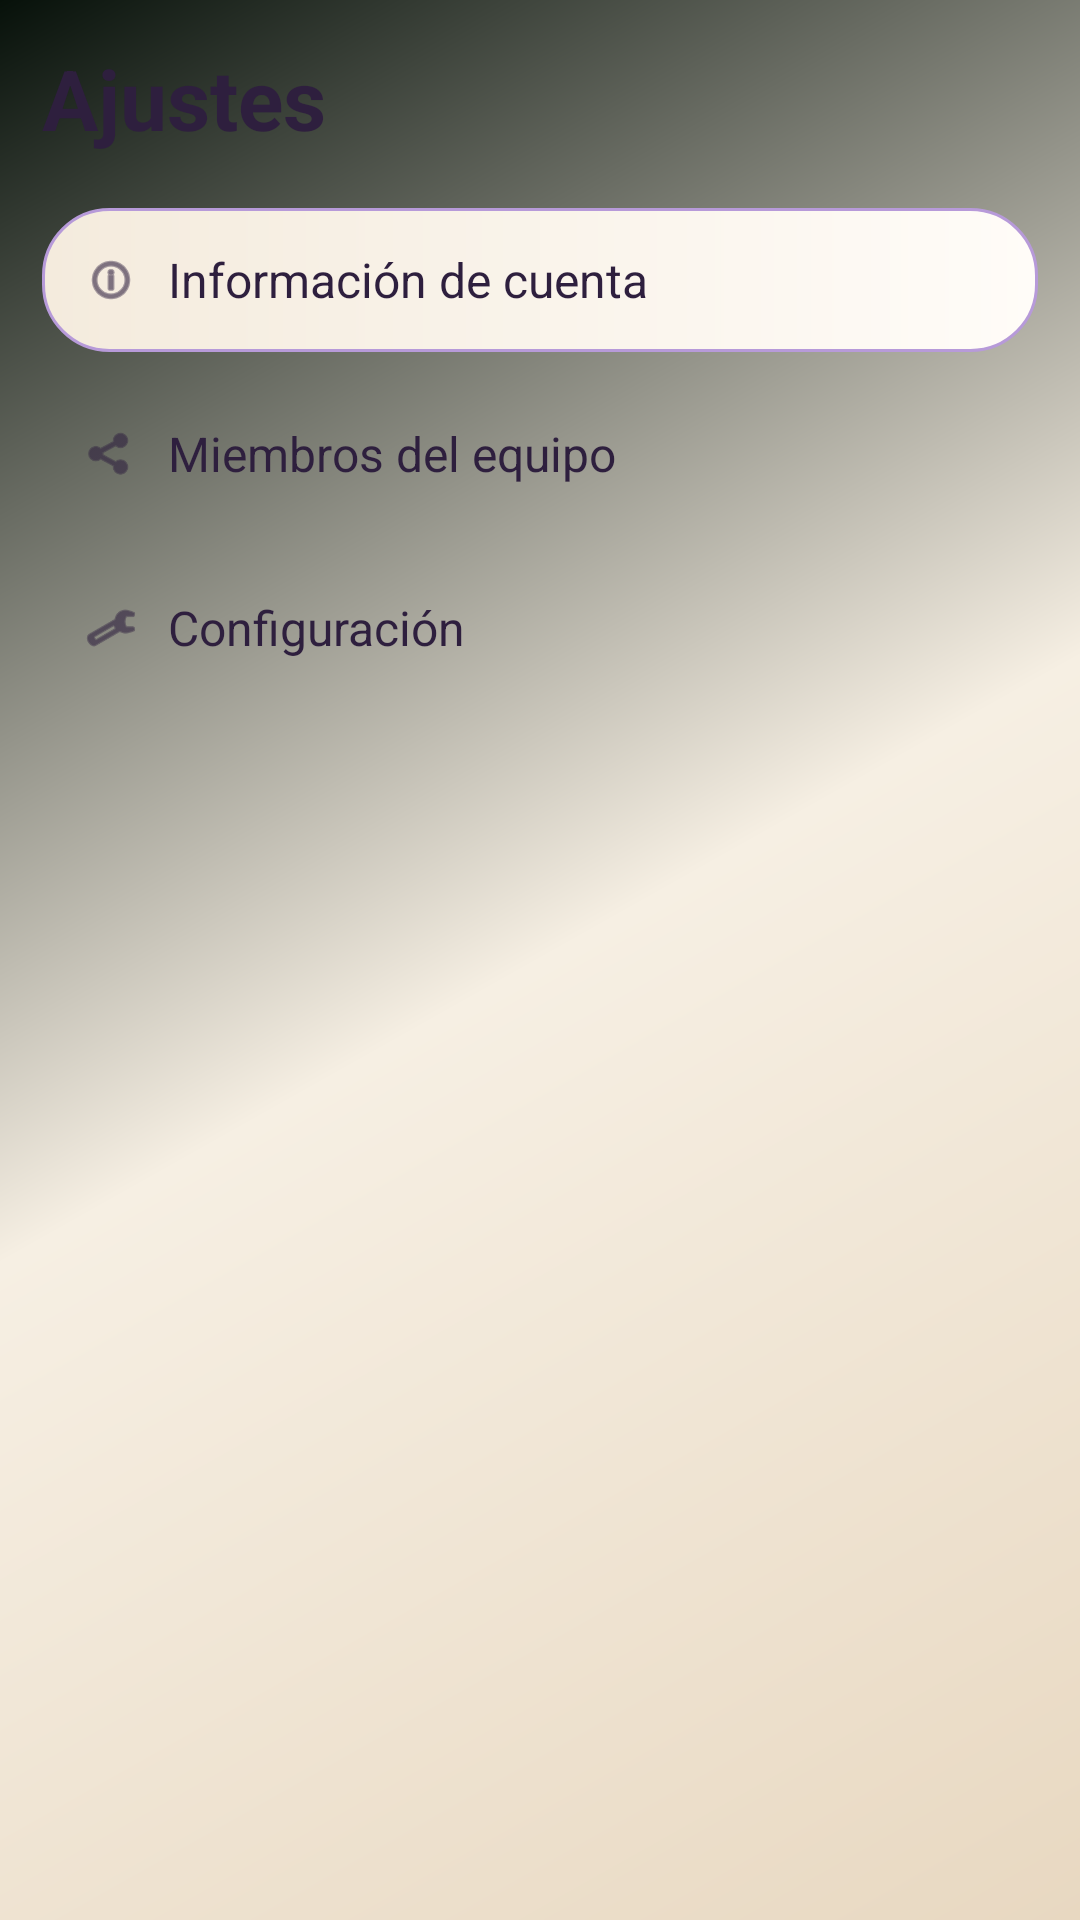

Named icons in this screenshot (1080×1920) and their bounding boxes, detection(x1, y1, x2, y2):
info details: detection(92, 261, 130, 299)
manage: detection(87, 610, 135, 646)
share: detection(88, 433, 128, 474)
